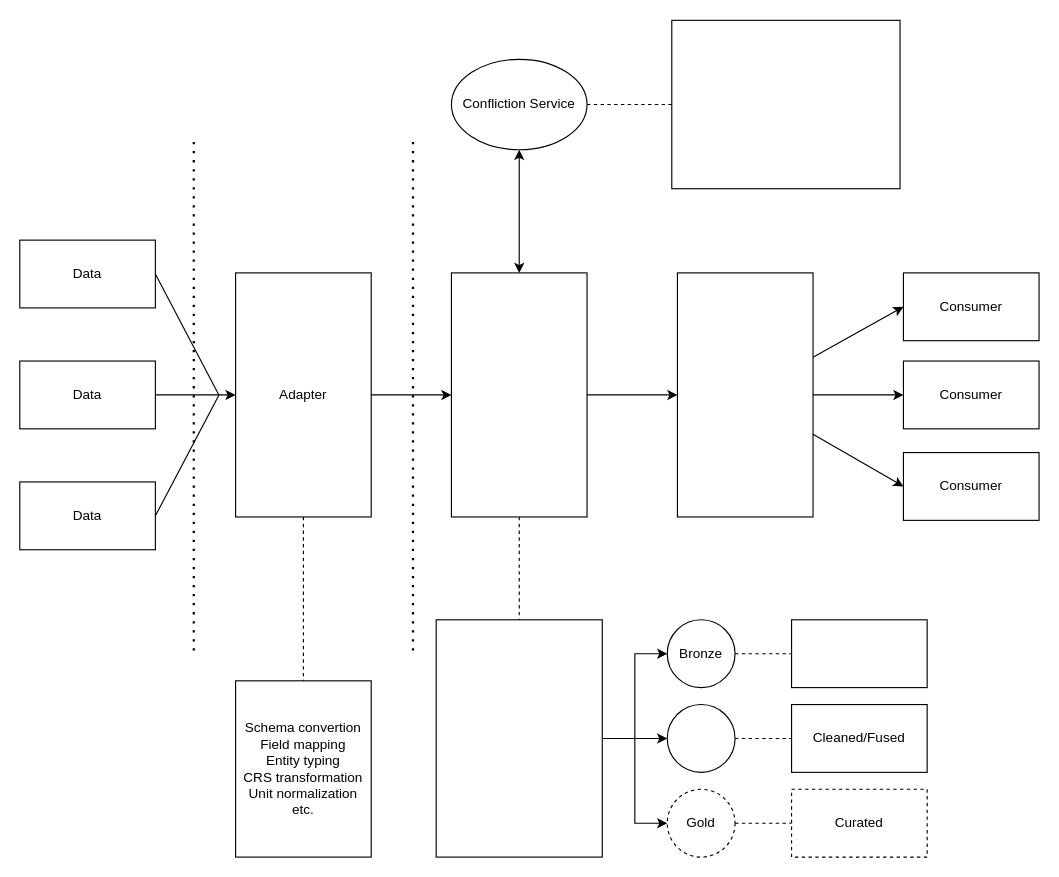
This 1059x877 diagram has some shape labels left out. The box of each missing label's shape, as (x1, y1, x2, y2) in pixels:
API: (676, 272, 813, 517)
Broker: (450, 272, 587, 517)
Matching & Fusing Completeness & confidence scoring Survivorship etc.: (671, 19, 900, 189)
Medallion Architecture: (435, 619, 602, 857)
Raw data: (790, 619, 927, 688)
Silver: (666, 703, 735, 772)
